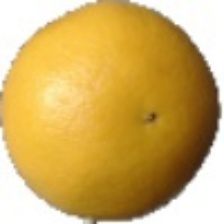grapes: (26, 38, 197, 200)
